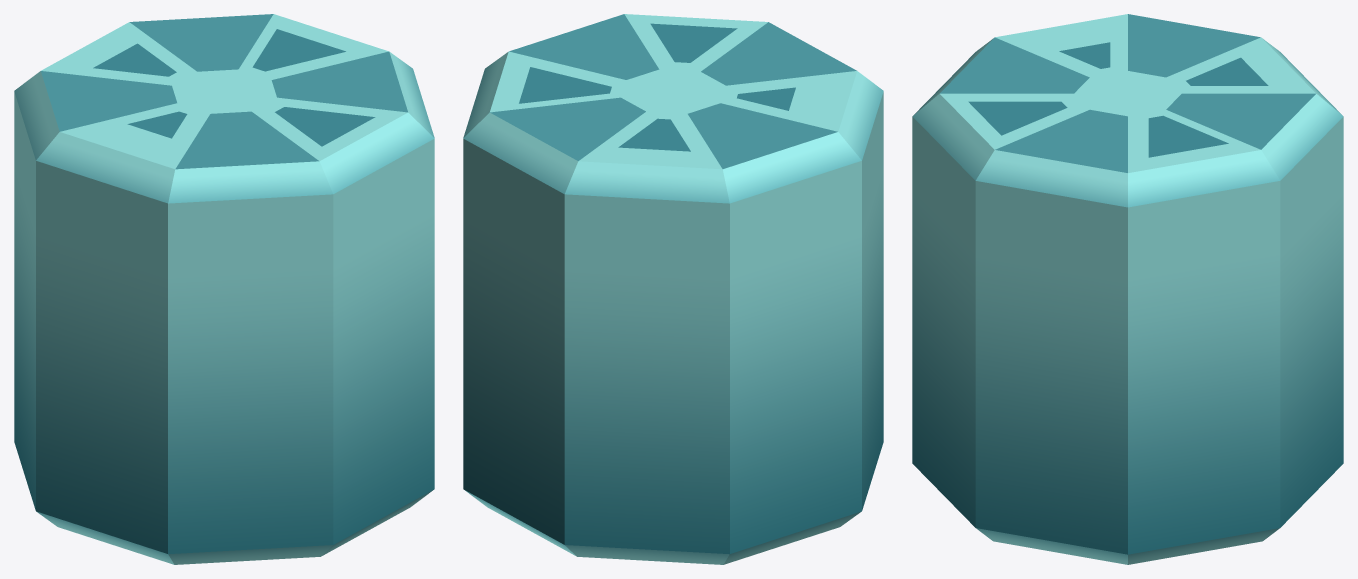
Rendered from Mushroom_farm.fbx.
The picture shows the model from 3 angles, left to right: view 1: azimuth 30°, elevation 25°; view 2: azimuth 150°, elevation 25°; view 3: azimuth 270°, elevation 25°; orthographic projection.
Parts seen in each view (by area): view 1: mushroom_farm; view 2: mushroom_farm; view 3: mushroom_farm.
Boxes of the visible parts, x1,y1,x2,y2 form: mushroom_farm: (14,14,434,564); mushroom_farm: (463,14,883,564); mushroom_farm: (912,14,1343,564).
Size of the model in its own units: 0.6729 by 0.6729 by 0.6734.
